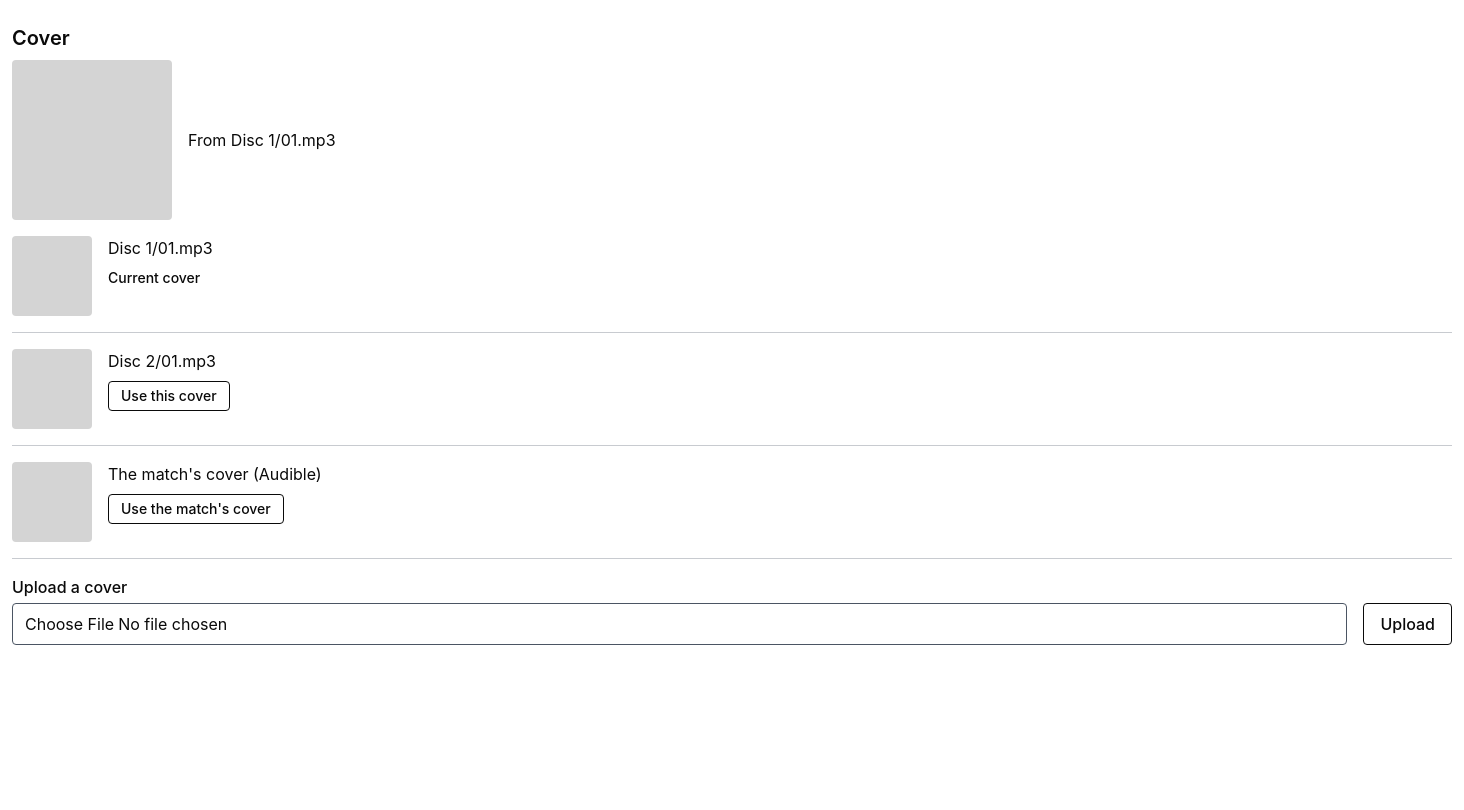
Test case: CoverPicker › chooses an embedded cover by its file id
Expected: the heading "Cover" is shown, [12,26,70,50]
Click the button with aria-label "Use this cover: Disc 2/01.mp3" at (169, 396), box [108,381,230,411]
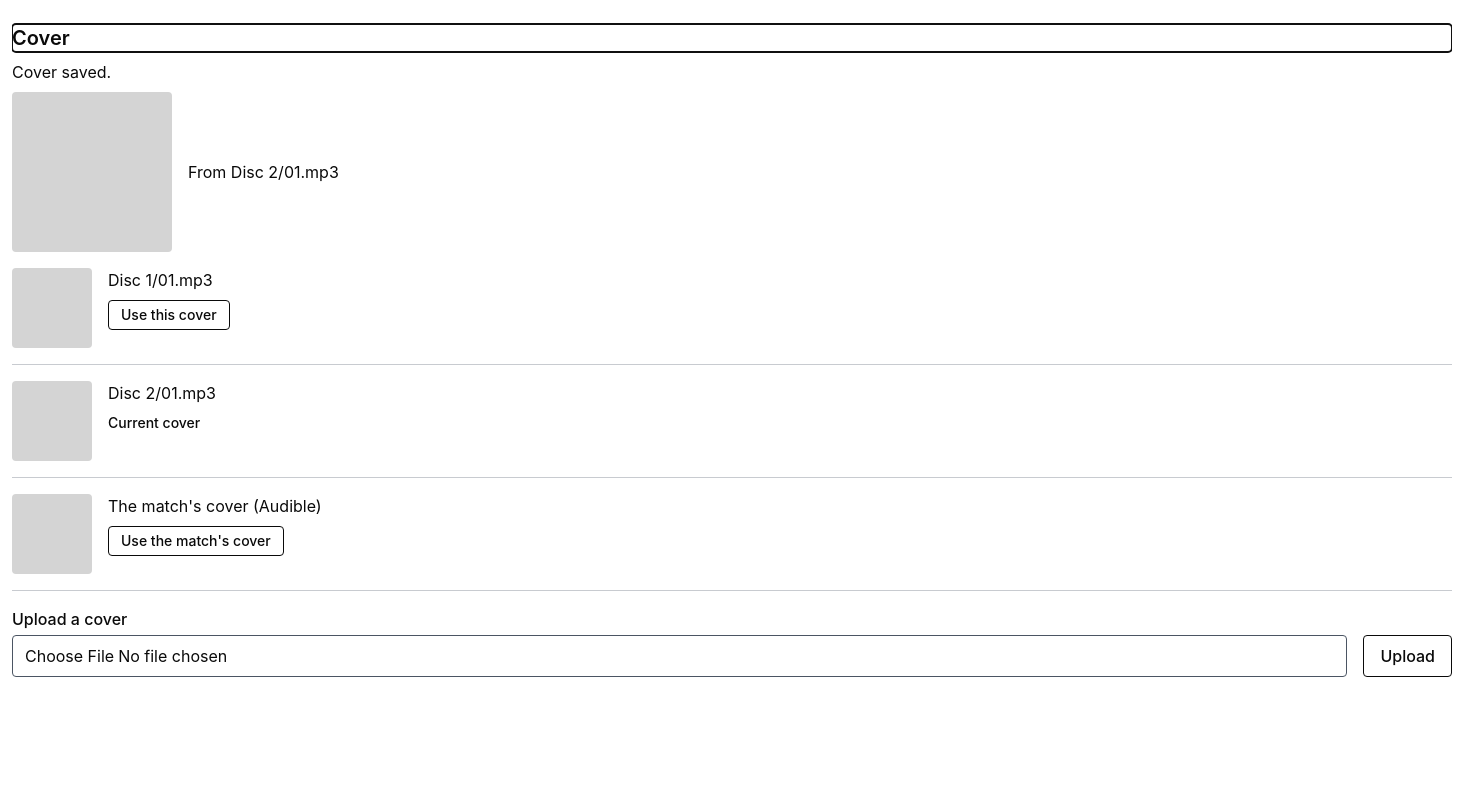
Now the text "From Disc 2/01.mp3" is shown, box [188,160,339,184]
